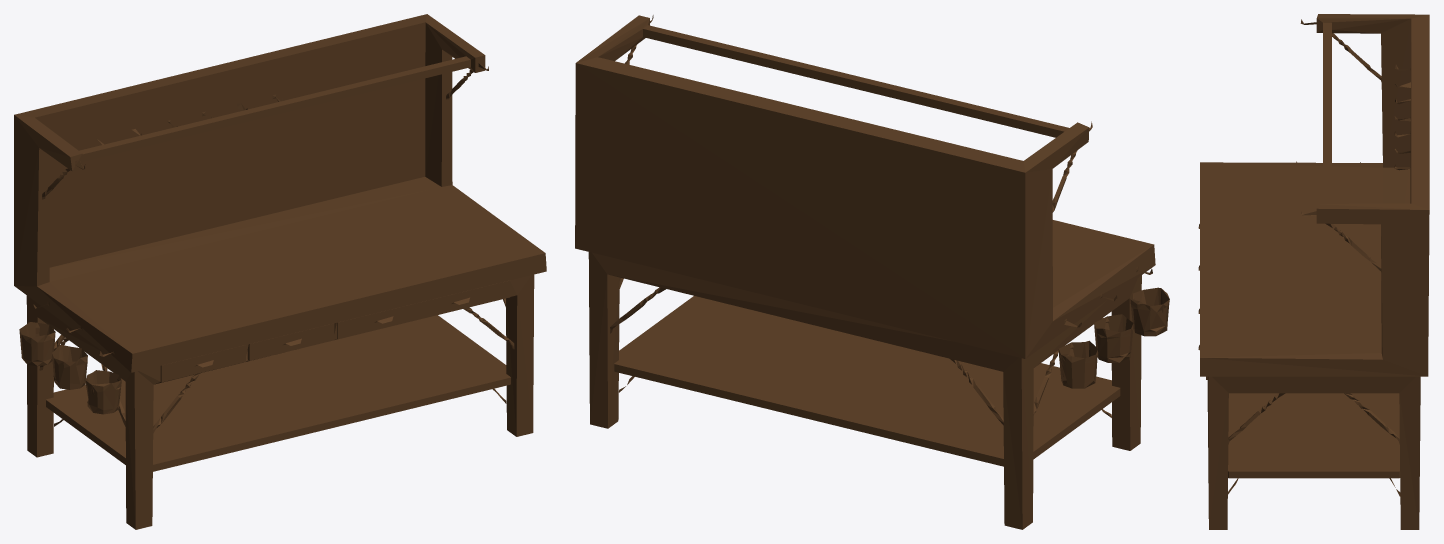
File: smith-workbench.lod0.glb
The picture shows the model from 3 angles, left to right: view 1: azimuth 30°, elevation 25°; view 2: azimuth 150°, elevation 25°; view 3: azimuth 270°, elevation 25°; orthographic projection. The views are drawn at different scales.
Parts seen in each view (by area): view 1: Workbench_Workbench_0; view 2: Workbench_Workbench_0; view 3: Workbench_Workbench_0.
Part boxes in pixels (bbox=[...]): Workbench_Workbench_0: bbox=[14, 14, 546, 529]; Workbench_Workbench_0: bbox=[575, 15, 1169, 529]; Workbench_Workbench_0: bbox=[1198, 14, 1429, 529].
Bounding box in the file's own units: 2.7 × 1.95 × 1.26.
